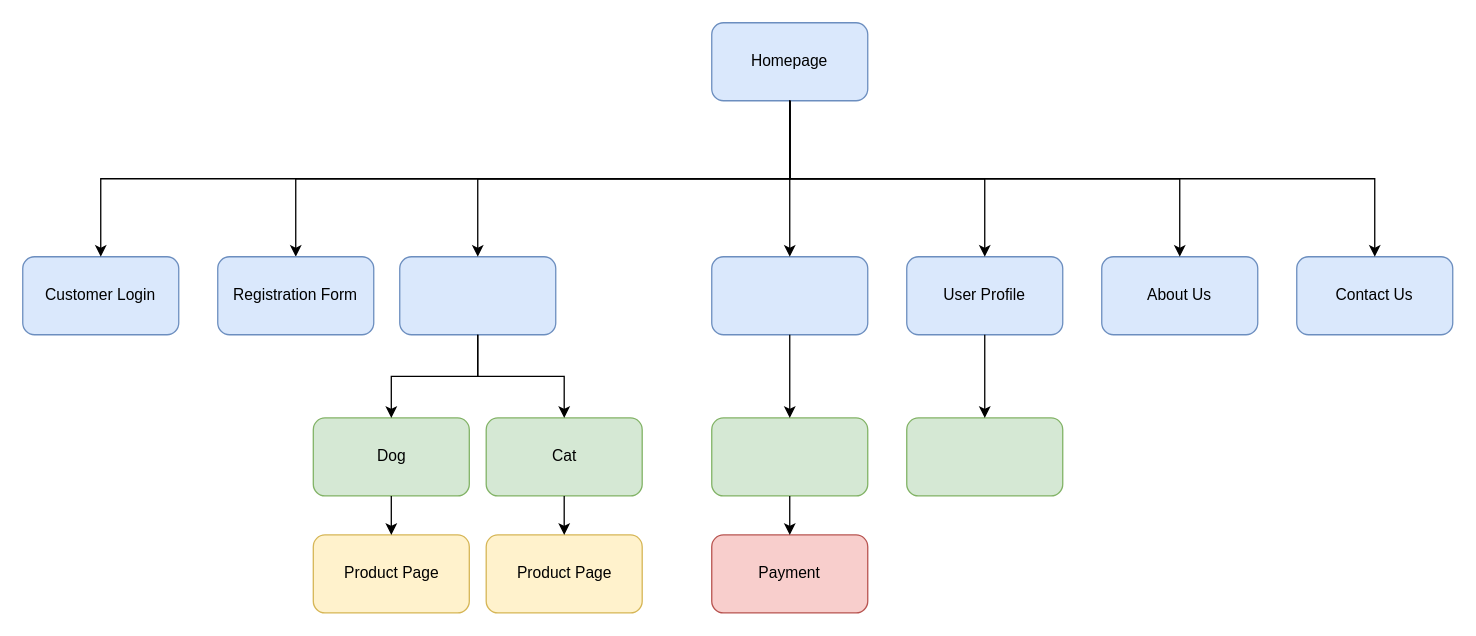
The diagram is 1476 pixels wide and 636 high, and some of its shapes have lost their labels. Here are the shapes that lost their labels. From the top down, the centre of each, then its label:
the point at 477,295: Products
the point at 789,295: Shopping Cart
the point at 789,456: Checkout
the point at 984,456: Orders
